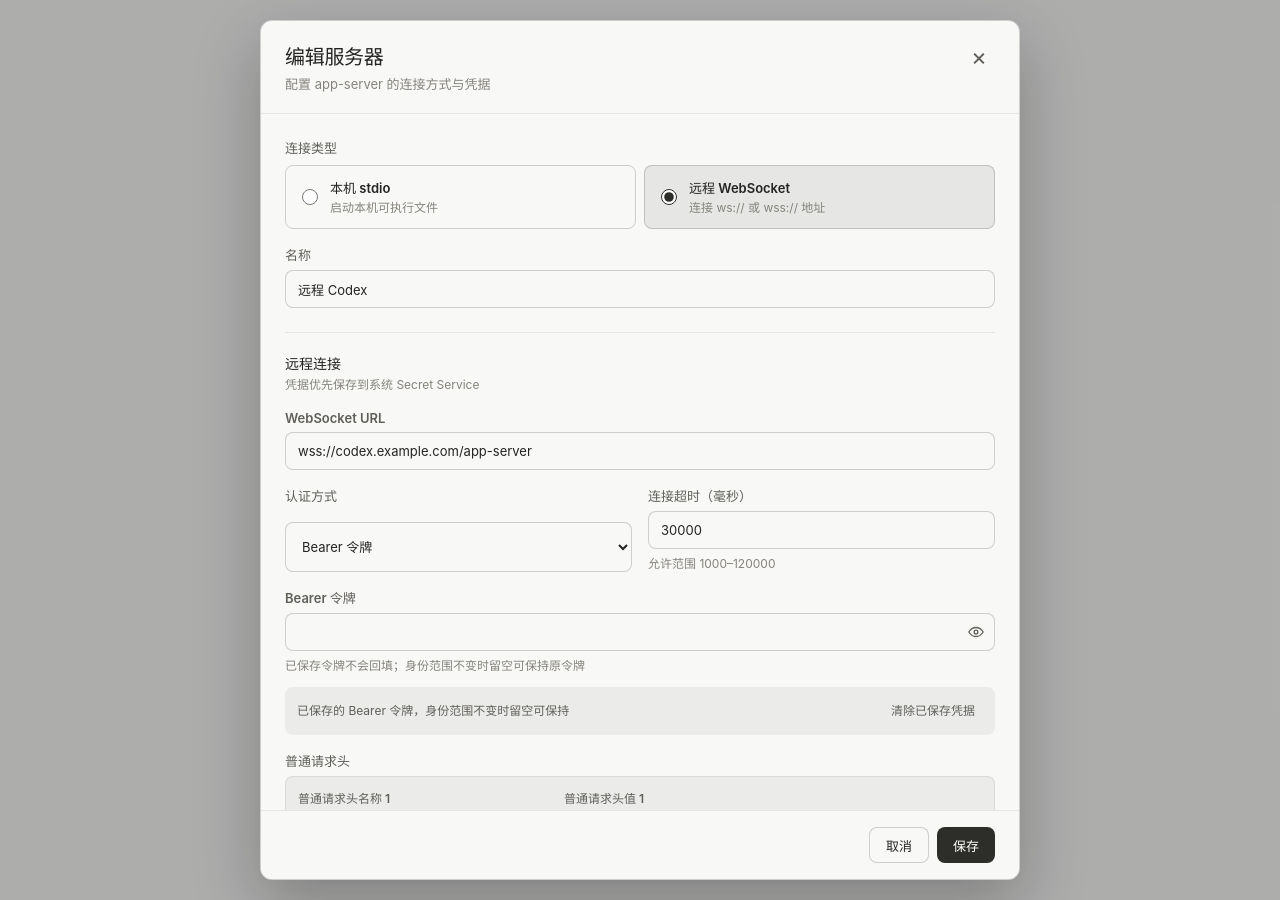
ServerEditorDialog › 编辑远程服务器时不回填凭据并支持切换令牌显隐
The width and height of the screenshot is (1280, 900).
expect the text "已保存的 Bearer 令牌，身份范围不变时留空可保持" is shown: met, box x1=297 y1=703 x2=569 y2=718
Step 1. Type "replacement-token" into the password field labelled "Bearer 令牌" → [640, 632], box x1=285 y1=613 x2=995 y2=651
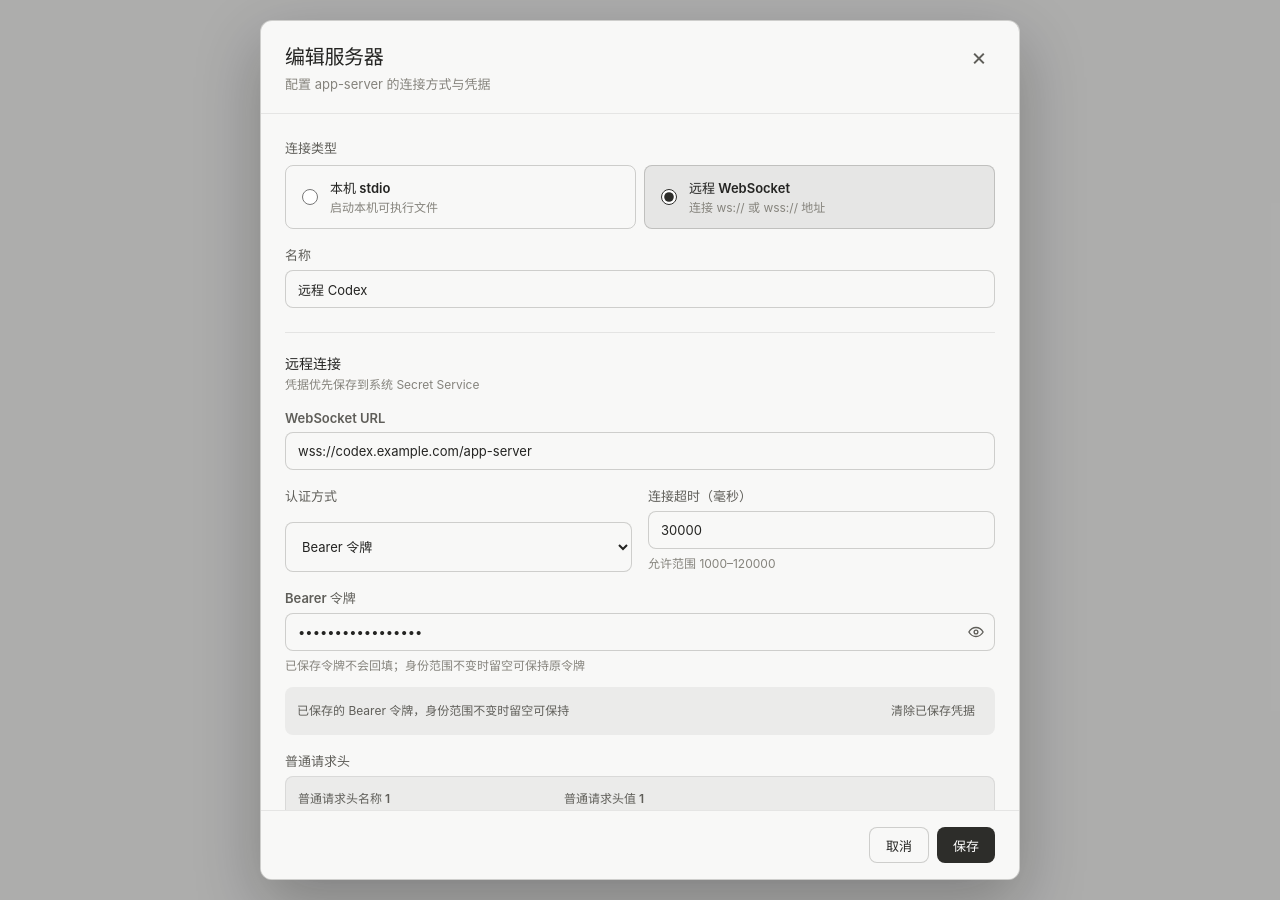
Step 2. Click the button named "显示 Bearer 令牌" → [976, 632], box x1=961 y1=617 x2=991 y2=647
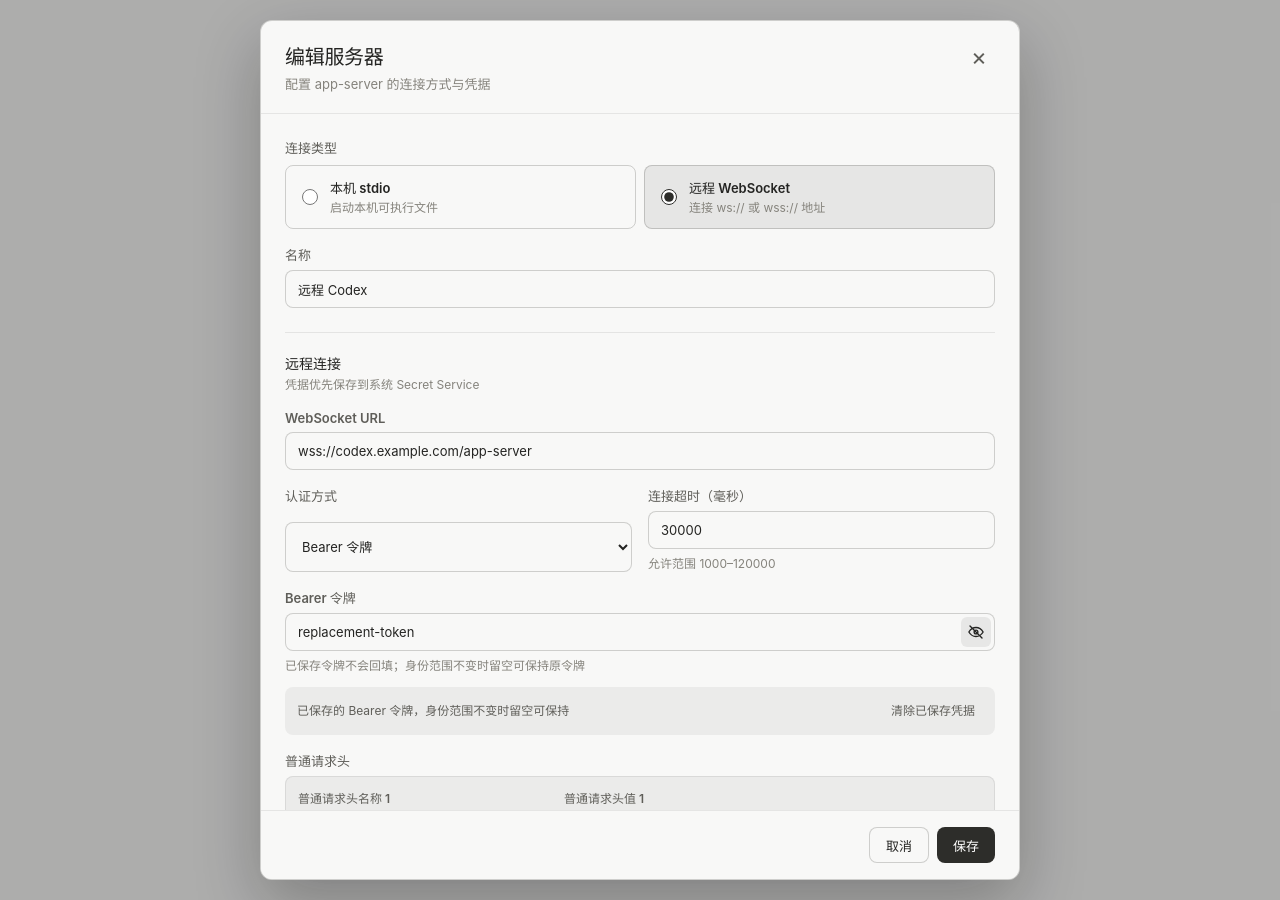
expect the field labelled "Bearer 令牌" shows its text: met, box x1=285 y1=613 x2=995 y2=651
Step 3. Click the button named "隐藏 Bearer 令牌" → [976, 632], box x1=961 y1=617 x2=991 y2=647
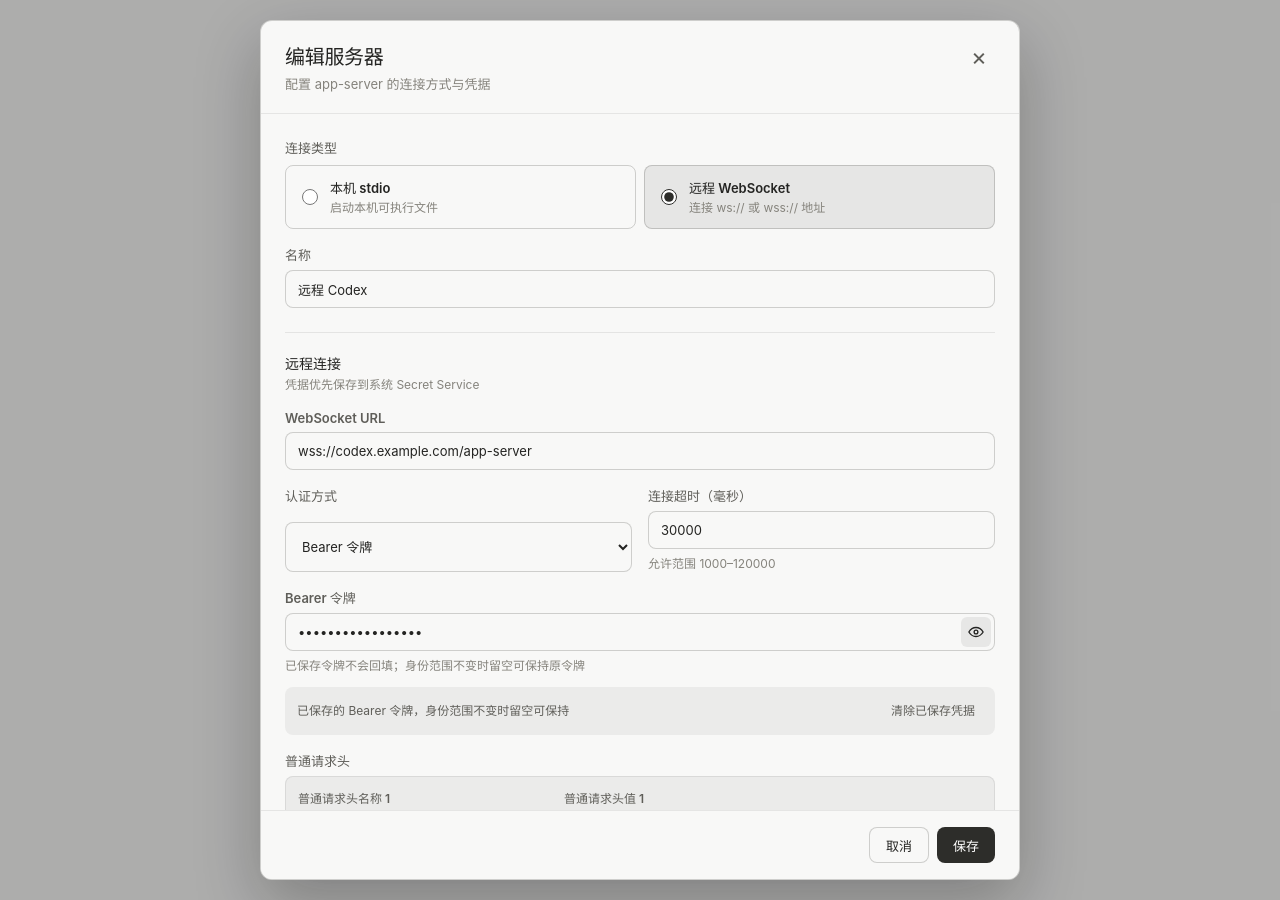
expect the password field labelled "Bearer 令牌" hides its text: met, box x1=285 y1=613 x2=995 y2=651
